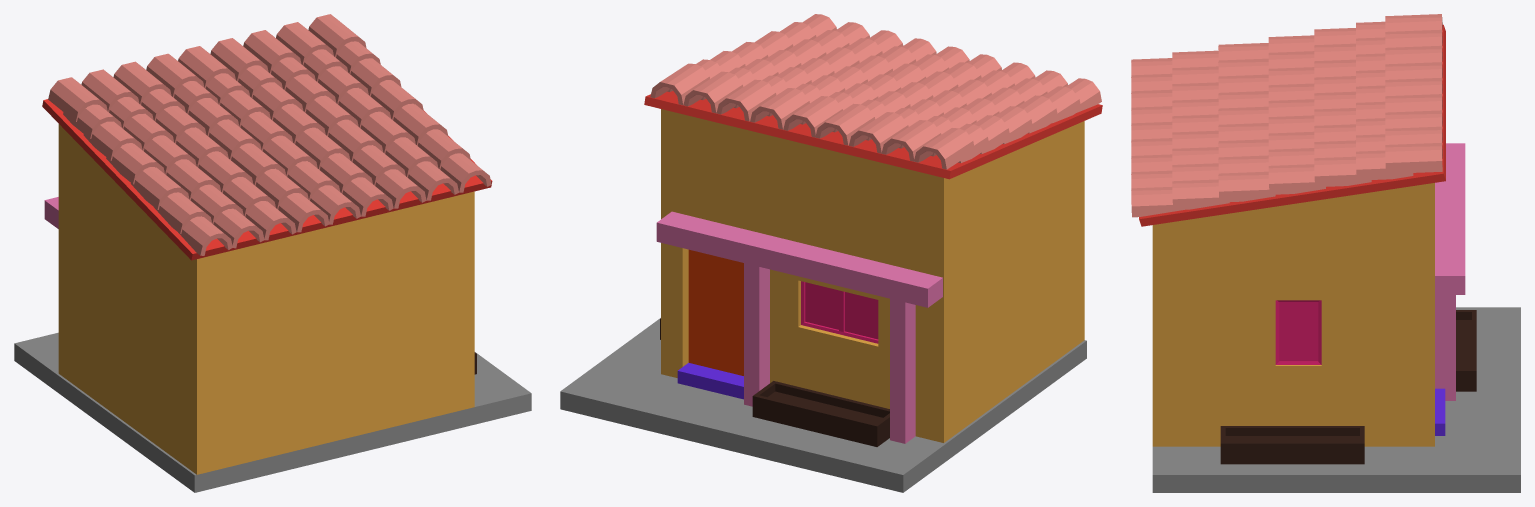
The model's file is Casa1_prueba.fbx.
3 views of the same model, side by side, from view 1: azimuth 30°, elevation 25°; view 2: azimuth 150°, elevation 25°; view 3: azimuth 270°, elevation 25° (orthographic). The views are drawn at different scales.
Parts seen in each view (by area): view 1: Cube.002, Cube.009, Cube.011, Plane.008, Plane.045, Plane.005, Plane.002, Plane.003, Plane.014, Plane.001, Plane.036, Plane.054 (+54 smaller); view 2: Cube.002, Cube.009, Cube.005, Cube.003, Cube.011, Cube.004, Cube.008, Cube, Plane.008, Plane.002, Plane.005, Plane.003 (+16 smaller); view 3: Cube.002, Cube.009, Cube.005, Cube.010, Cube.011, Cube.008, Cube.004, Plane.014, Plane.037, Plane.028, Plane.046, Plane.019 (+59 smaller).
Boxes of the visible parts, bbox=[...] form: Cube.002: bbox=[58, 124, 474, 474]; Cube.009: bbox=[14, 332, 531, 492]; Cube.011: bbox=[42, 99, 492, 260]; Plane.008: bbox=[48, 77, 107, 121]; Plane.045: bbox=[130, 167, 189, 209]; Plane.005: bbox=[146, 53, 204, 97]; Plane.002: bbox=[243, 30, 301, 73]; Plane.003: bbox=[210, 38, 268, 81]; Plane.014: bbox=[308, 14, 366, 57]; Plane.001: bbox=[276, 22, 333, 65]; Plane.036: bbox=[106, 143, 164, 184]; Plane.054: bbox=[154, 192, 211, 233]; Cube.002: bbox=[661, 109, 1084, 442]; Cube.009: bbox=[560, 318, 1086, 492]; Cube.005: bbox=[656, 211, 942, 443]; Cube.003: bbox=[688, 249, 743, 375]; Cube.011: bbox=[644, 91, 1102, 179]; Cube.004: bbox=[752, 381, 889, 446]; Cube.008: bbox=[801, 281, 878, 343]; Cube: bbox=[677, 362, 743, 399]; Plane.008: bbox=[914, 128, 974, 169]; Plane.002: bbox=[716, 79, 776, 121]; Plane.005: bbox=[816, 103, 875, 145]; Plane.003: bbox=[750, 88, 809, 129]; Cube.002: bbox=[1152, 183, 1434, 446]; Cube.009: bbox=[1152, 307, 1520, 492]; Cube.005: bbox=[1435, 143, 1465, 400]; Cube.010: bbox=[1220, 426, 1364, 464]; Cube.011: bbox=[1139, 24, 1445, 226]; Cube.008: bbox=[1275, 300, 1321, 364]; Cube.004: bbox=[1456, 310, 1476, 391]; Plane.014: bbox=[1385, 142, 1442, 173]; Plane.037: bbox=[1218, 171, 1275, 202]; Plane.028: bbox=[1268, 164, 1325, 194]; Plane.046: bbox=[1172, 179, 1229, 210]; Plane.019: bbox=[1314, 156, 1371, 187].
Bounding box in the file's own units: 595 × 506 × 570.
